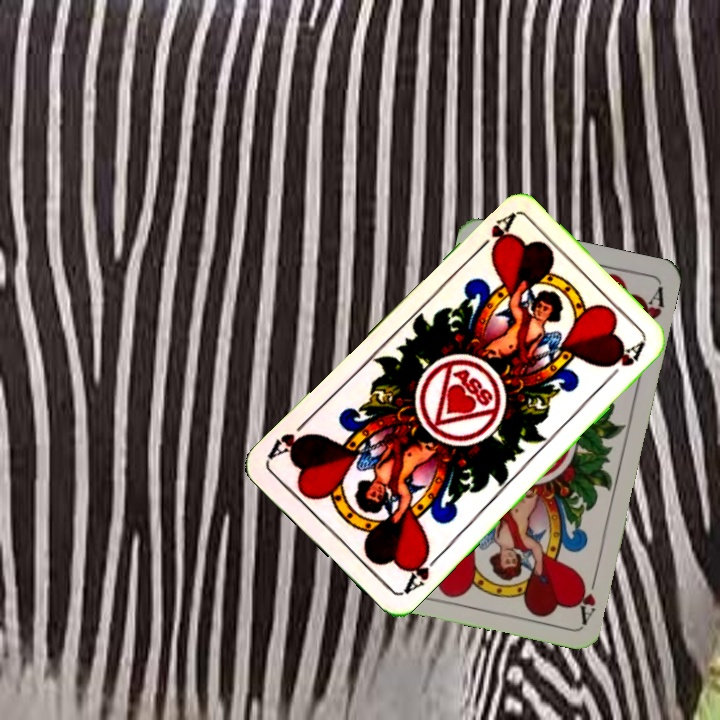HA: (399, 545, 445, 598), (470, 210, 518, 257), (574, 566, 601, 625)
